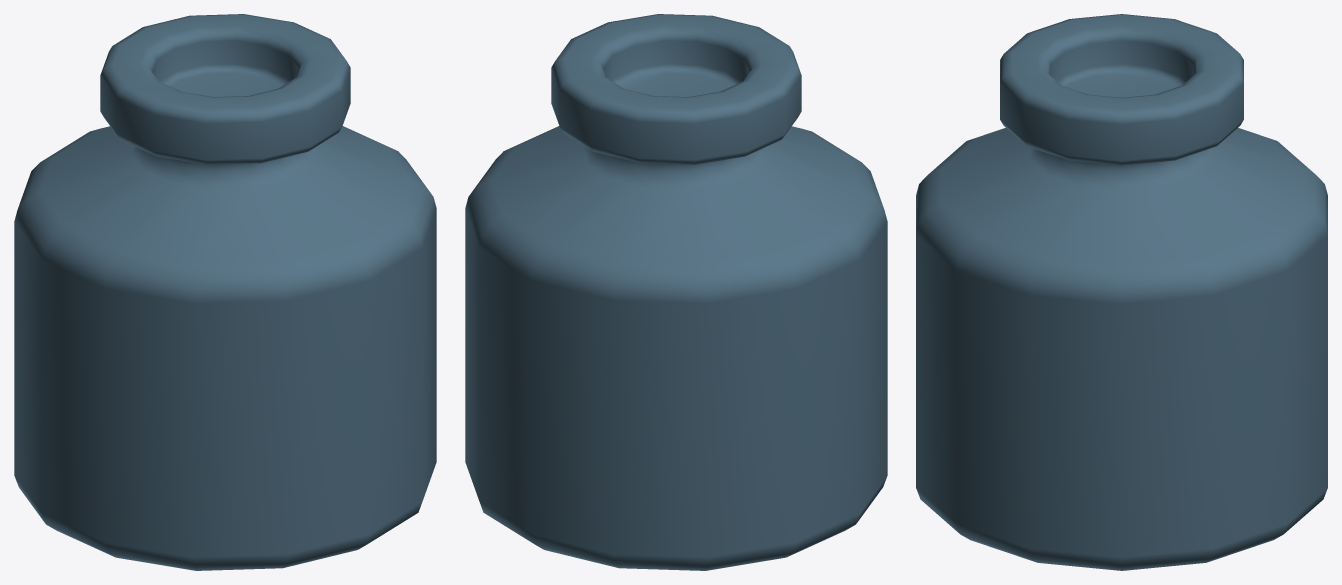
Rendered from Bottle_Clay_01.fbx.
The picture shows the model from 3 angles, left to right: view 1: azimuth 30°, elevation 25°; view 2: azimuth 150°, elevation 25°; view 3: azimuth 270°, elevation 25°; orthographic projection.
Parts seen in each view (by area): view 1: Bottle_Clay_01; view 2: Bottle_Clay_01; view 3: Bottle_Clay_01.
Boxes of the visible parts, x1=… form: Bottle_Clay_01: x1=14, y1=14, x2=436, y2=570; Bottle_Clay_01: x1=465, y1=14, x2=887, y2=570; Bottle_Clay_01: x1=916, y1=14, x2=1327, y2=570.
Size of the model in its own units: 0.1377 by 0.1545 by 0.1342.
